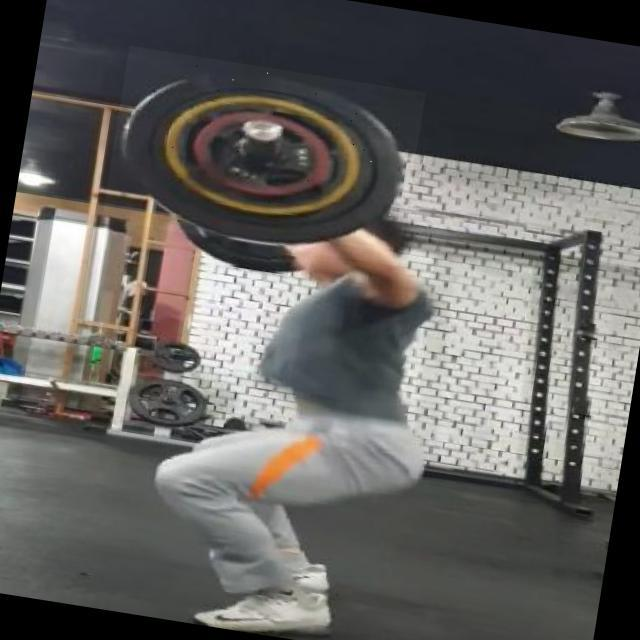barbell: (103, 47, 427, 268)
